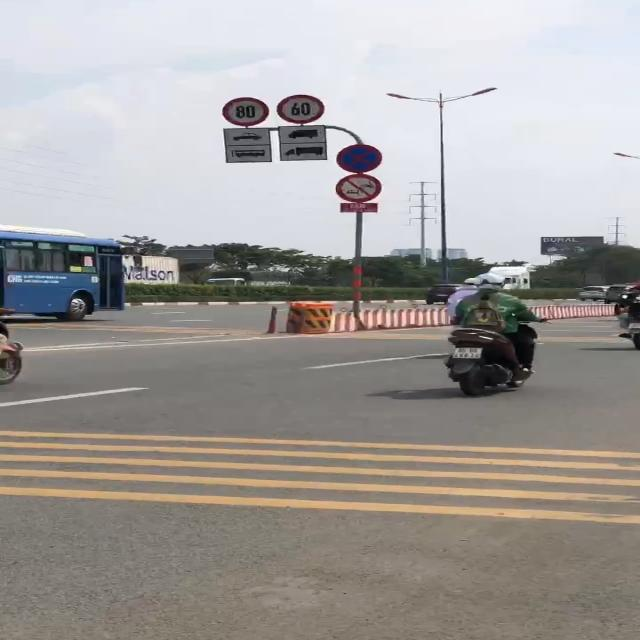Bien bao cam dung xe va do xe: (332, 141, 386, 173)
Bien bao toc do toi da cho phep: (274, 93, 330, 125), (218, 96, 272, 128)
